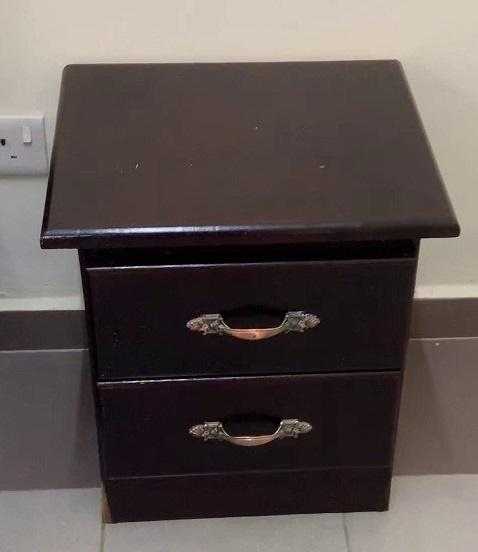cabinet_door: (94, 261, 404, 380), (99, 373, 395, 473)
handle: (182, 306, 323, 349), (186, 413, 315, 459)
